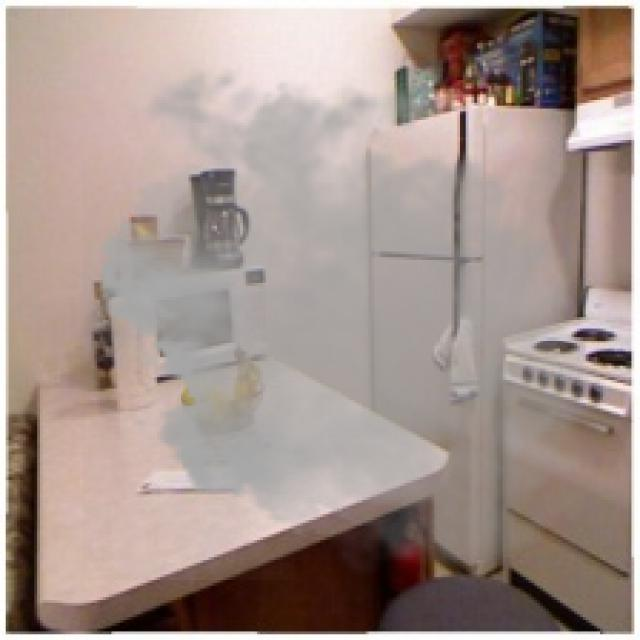smoke: (83, 51, 628, 580)
